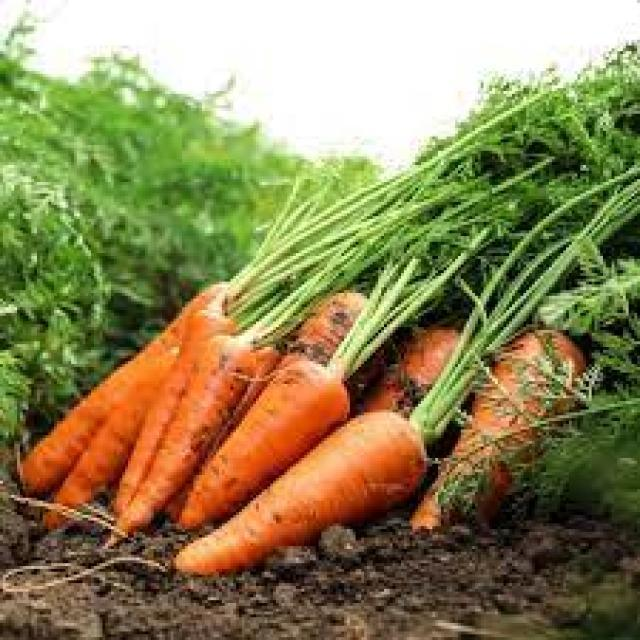carrot: (173, 410, 430, 573), (416, 328, 585, 536), (176, 358, 353, 527)
